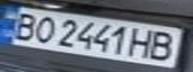1: (109, 24, 130, 56)
2: (51, 16, 81, 48)
4: (72, 19, 96, 52), (90, 21, 112, 54)
B: (145, 29, 181, 62), (3, 10, 42, 40)
H: (127, 25, 160, 60)
O: (27, 14, 60, 44)
